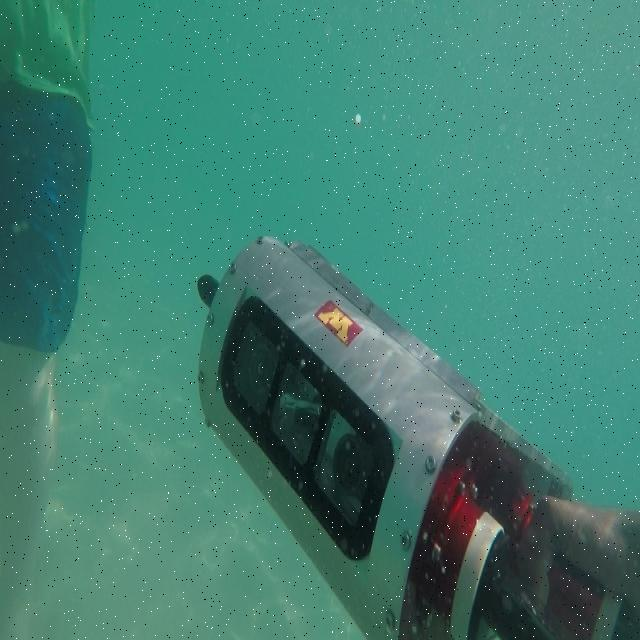robots: (196, 236, 639, 638)
